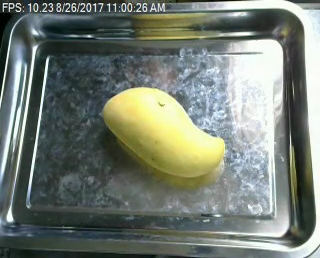Mango: (102, 86, 231, 184)
